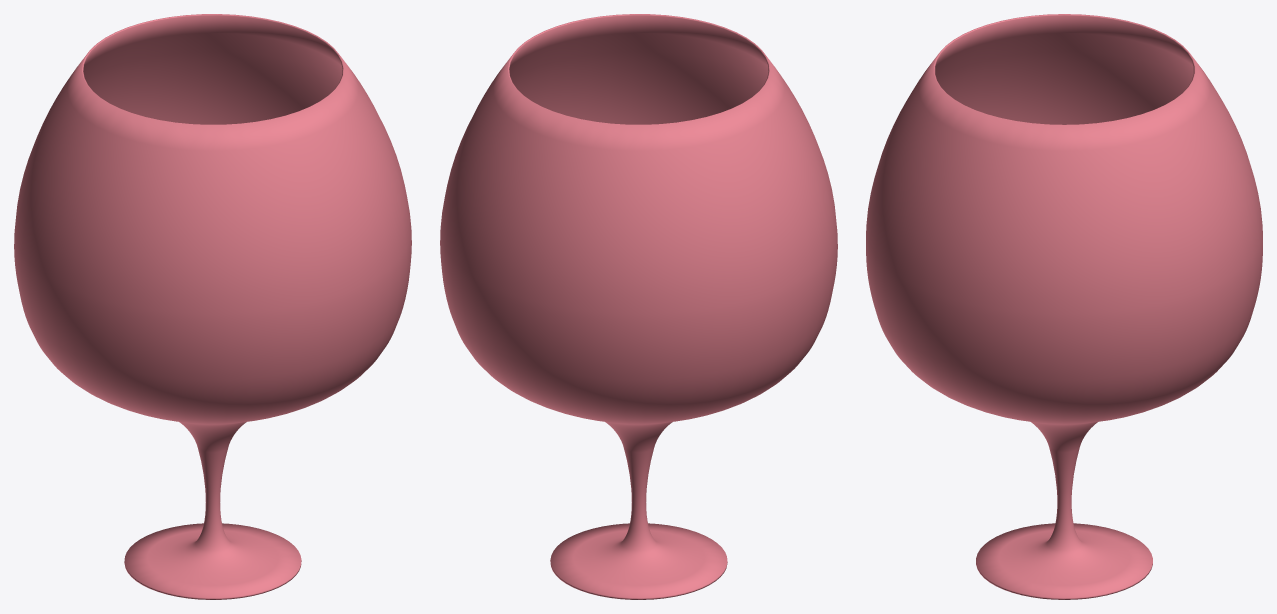
The model's file is DrinkGlass_5.fbx.
The picture shows the model from 3 angles, left to right: view 1: azimuth 30°, elevation 25°; view 2: azimuth 150°, elevation 25°; view 3: azimuth 270°, elevation 25°; orthographic projection.
Visible parts, largest first — view 1: DrinkGlass 5; view 2: DrinkGlass 5; view 3: DrinkGlass 5.
Boxes of the visible parts, box(x1,y1,x2,y2) form: DrinkGlass 5: box(14, 14, 411, 599); DrinkGlass 5: box(440, 14, 837, 599); DrinkGlass 5: box(866, 14, 1262, 599).
Size of the model in its own units: 0.1575 by 0.2155 by 0.1572.
